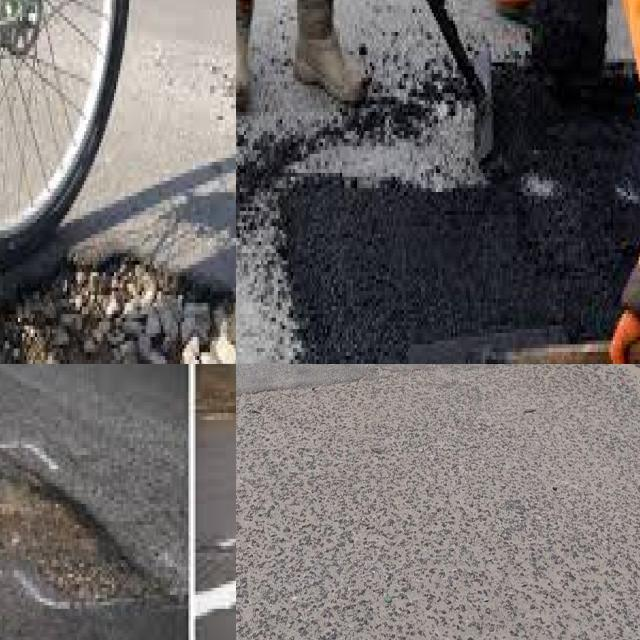Pothole: (0, 242, 236, 364), (0, 450, 168, 609), (299, 146, 479, 188)
